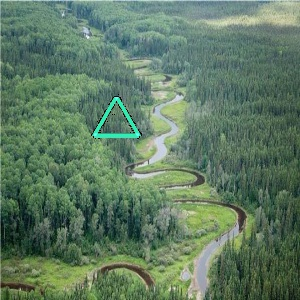triangle: (89, 94, 142, 141)
